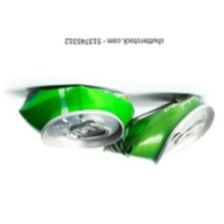can: (99, 91, 217, 168), (16, 79, 137, 150)
